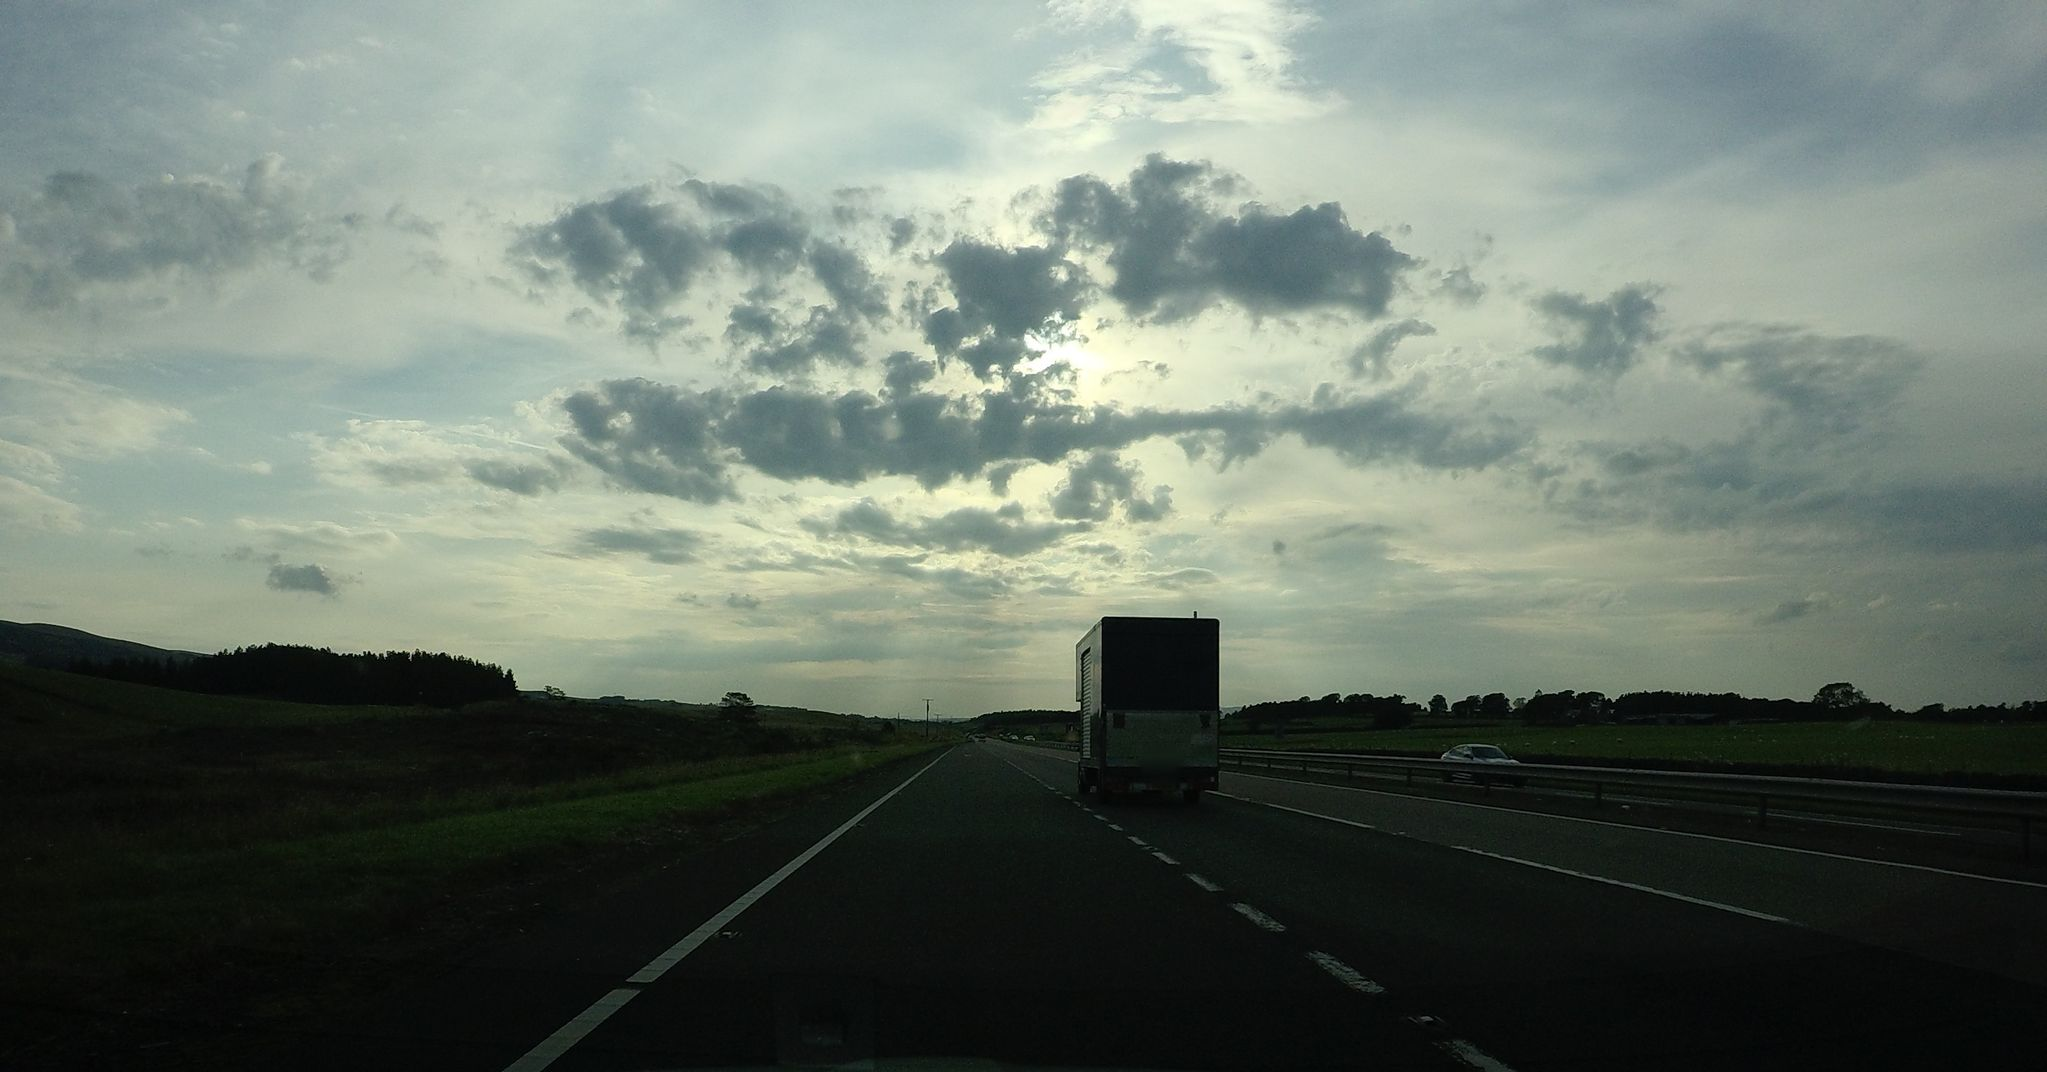car: (1440, 743, 1526, 788)
truck: (1072, 610, 1223, 801)
